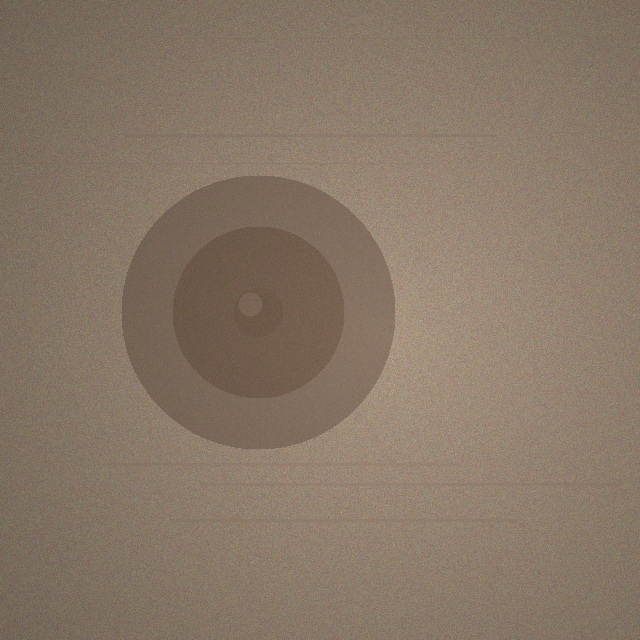good: (121, 175, 395, 449)
